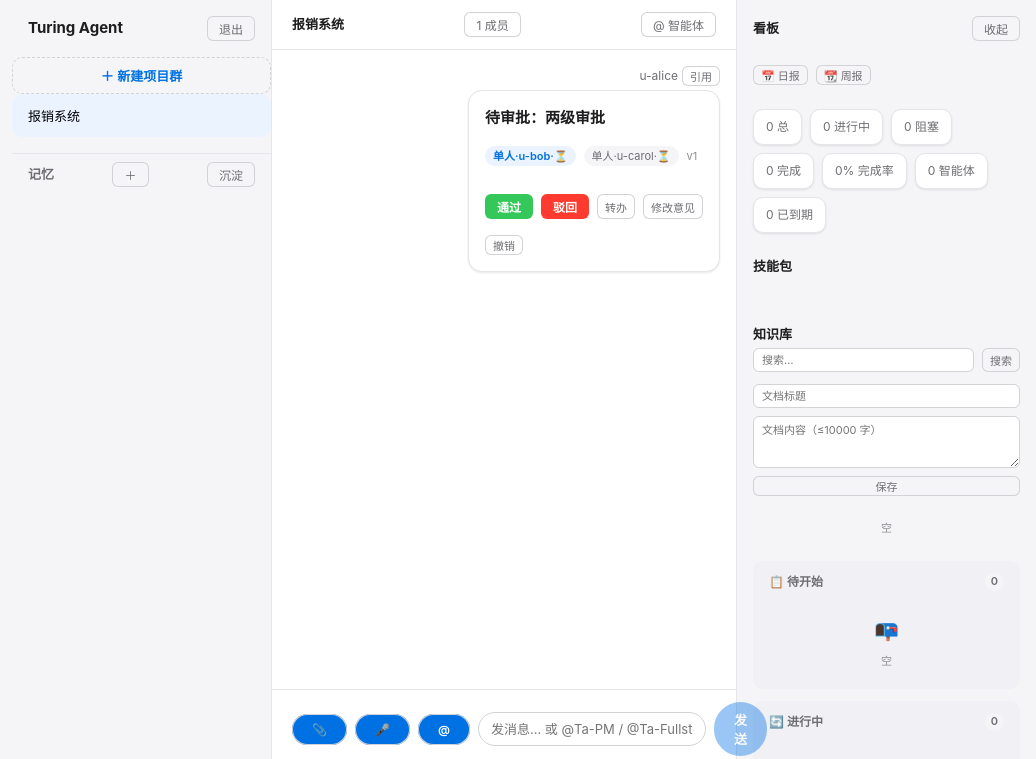
Test case: Chat › advances multi-level nodes on decide without flickering content (M1 approvalById sync)
Expected: the text "单人·u-bob·⏳" is shown, [485,146,576,166]
Click the button "通过".
click(509, 206)  # box [485,194,533,219]
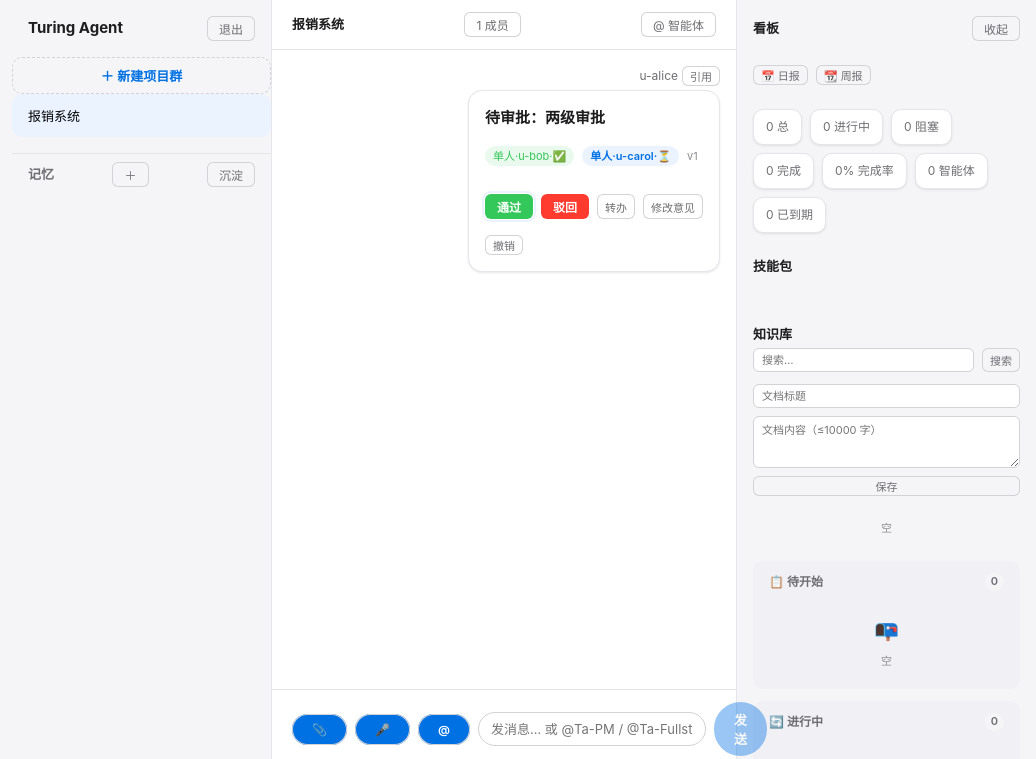
Expected: the text "待审批：两级审批" is shown, [485,108,605,127]
Result: the text "单人·u-bob·✅" is shown at [485,146,574,166]
